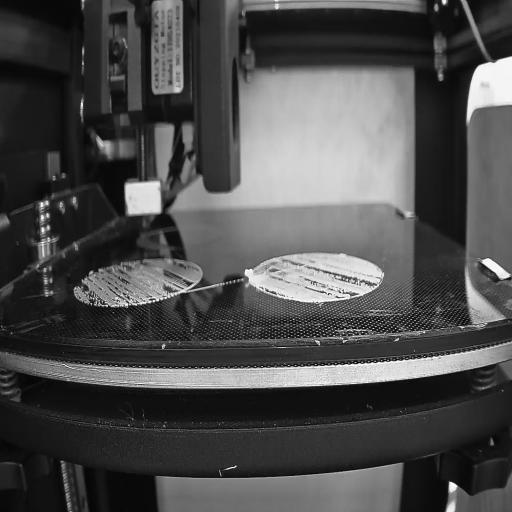under_extrusion: (257, 257, 384, 301), (79, 263, 132, 306), (157, 260, 200, 304)
